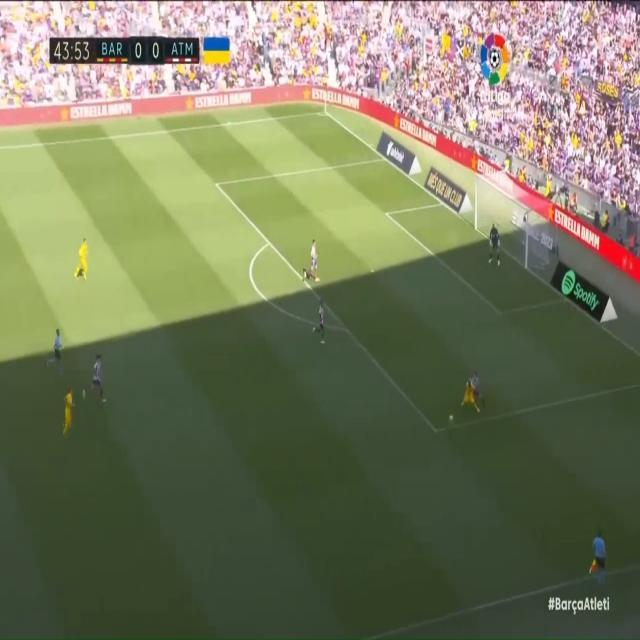ball: (444, 411, 457, 428)
goalkeeper: (483, 221, 504, 272)
player: (82, 356, 108, 414), (304, 231, 323, 288), (70, 235, 93, 280), (310, 301, 330, 350), (59, 389, 77, 434), (463, 379, 478, 420), (471, 371, 484, 413)
referee: (587, 517, 611, 585), (48, 327, 65, 373)
